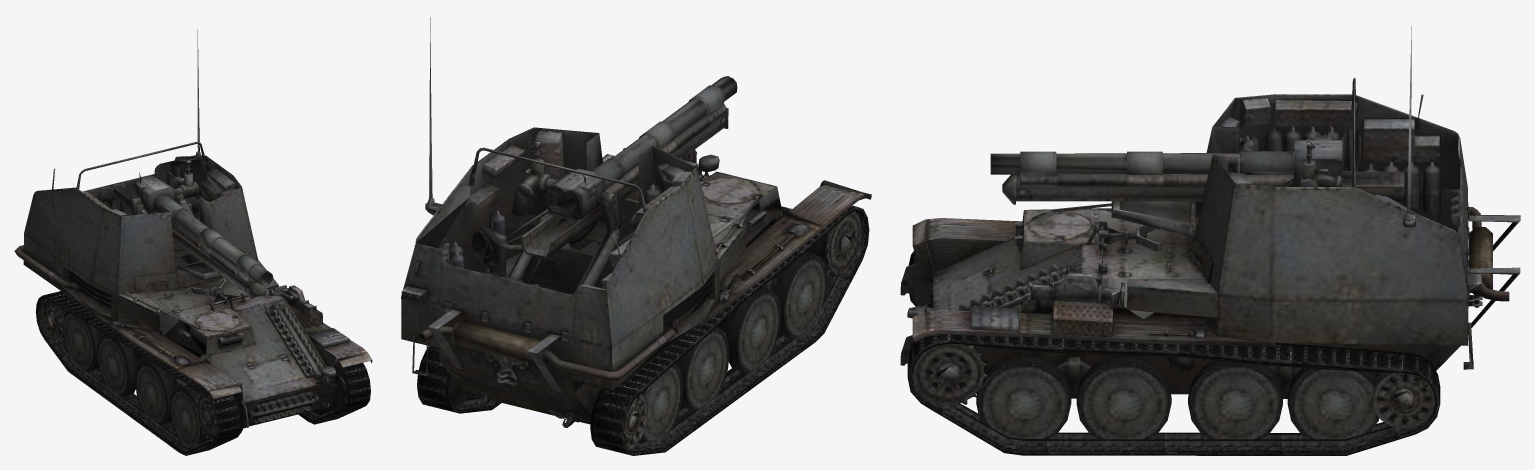
File: Grille.FBX
3 renders of one model, left to right at view 1: azimuth 30°, elevation 25°; view 2: azimuth 150°, elevation 25°; view 3: azimuth 270°, elevation 25°, orthographic. The views are drawn at different scales.
Visible parts, largest first — view 1: 重火炮_蟋蟀自走炮; view 2: 重火炮_蟋蟀自走炮; view 3: 重火炮_蟋蟀自走炮.
Boxes of the visible parts, x1=… form: 重火炮_蟋蟀自走炮: x1=14, y1=29, x2=372, y2=455; 重火炮_蟋蟀自走炮: x1=401, y1=17, x2=871, y2=455; 重火炮_蟋蟀自走炮: x1=900, y1=26, x2=1520, y2=455.
Bounding box in the file's own units: 1.47 × 2.58 × 3.28.
2 materials, 2 textured.
